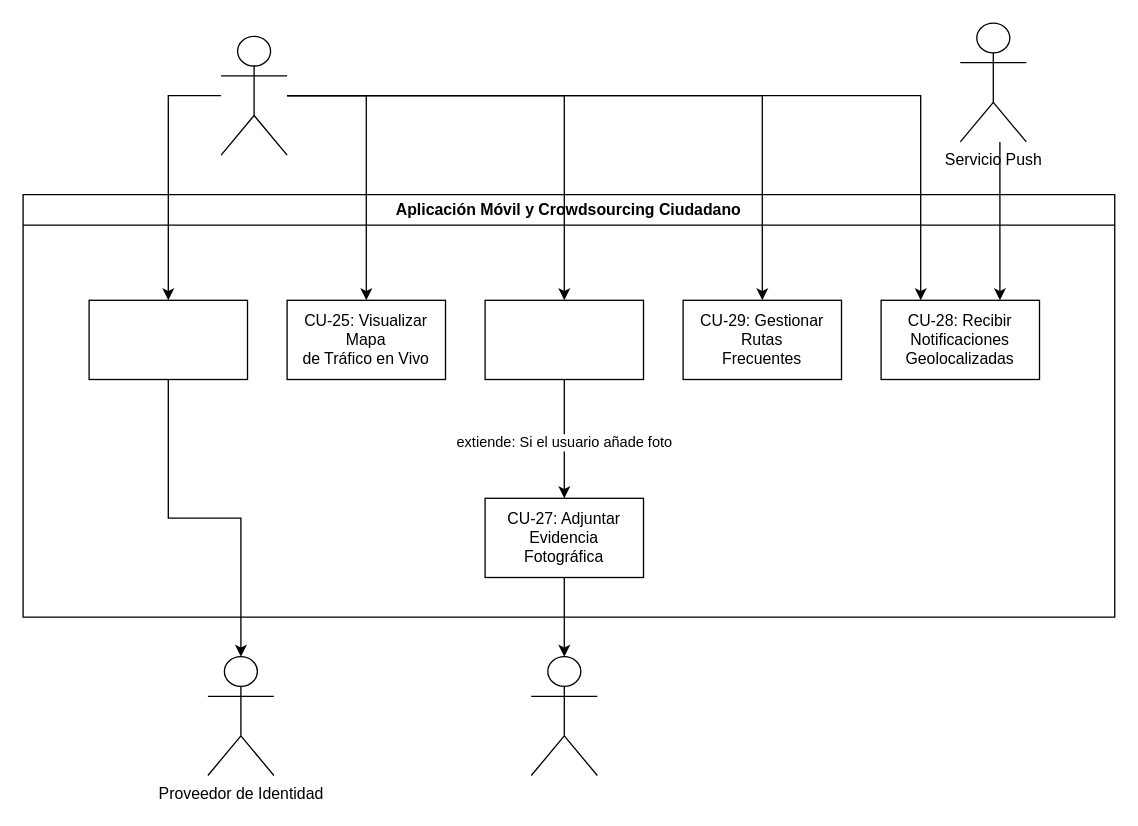
The diagram is 1138 pixels wide and 826 high, and some of its shapes have lost their labels. Here are the shapes that lost their labels. From the top down, the centre of each, then its label:
At pixel 253 95: "Ciudadano / Conductor".
At pixel 168 339: "CU-24: Autenticar / Registrar Usuario".
At pixel 564 339: "CU-26: Reportar Incidente".
At pixel 563 715: "Almacenamiento en la nube".
